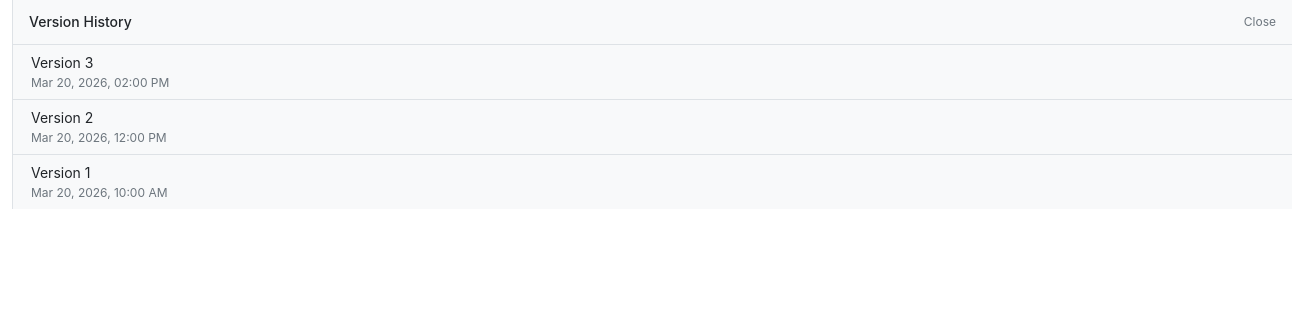
it: VersionHistory › shows version content preview when a version is selected
Click the button with test id "version-item-2": [58, 118] box [13,100,1292,154]
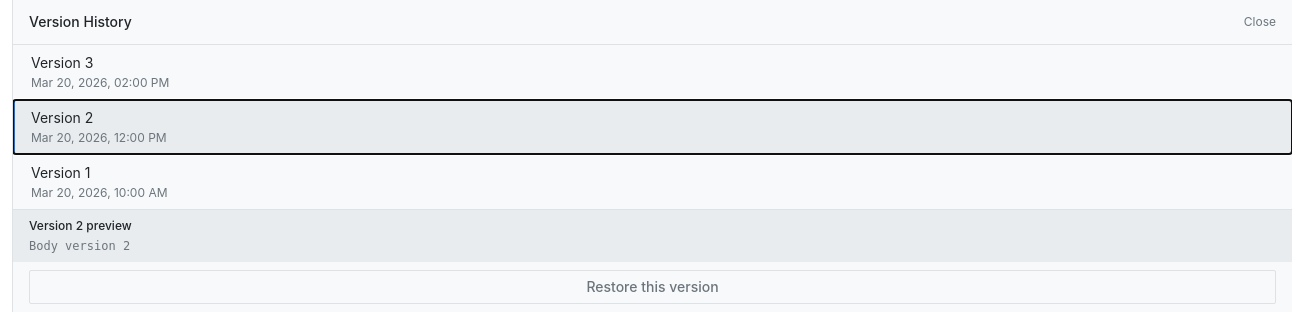
Check: the text "Body version 2" is shown, box [29,239,130,253]
